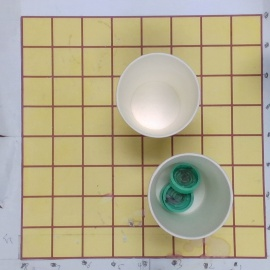cup: (115, 53, 203, 139)
cup_green: (148, 153, 231, 238)
